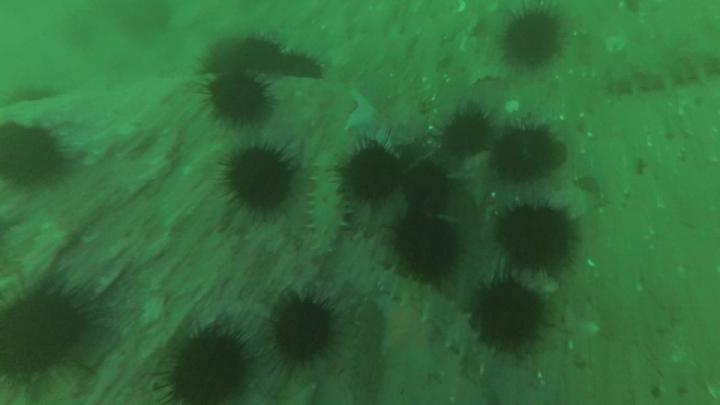echinus: (2, 296, 87, 384), (169, 333, 248, 405), (475, 283, 541, 352), (228, 146, 293, 209), (501, 208, 569, 266), (396, 219, 461, 279), (341, 145, 405, 205), (273, 304, 336, 363), (3, 127, 59, 189), (505, 11, 563, 65), (495, 129, 554, 178), (212, 75, 268, 126), (403, 162, 452, 216), (444, 113, 493, 157), (242, 35, 279, 74), (273, 53, 326, 77), (205, 52, 248, 76)
holothurian: (378, 274, 491, 375), (307, 153, 353, 260), (610, 60, 708, 99)
starfish: (348, 89, 407, 155)
